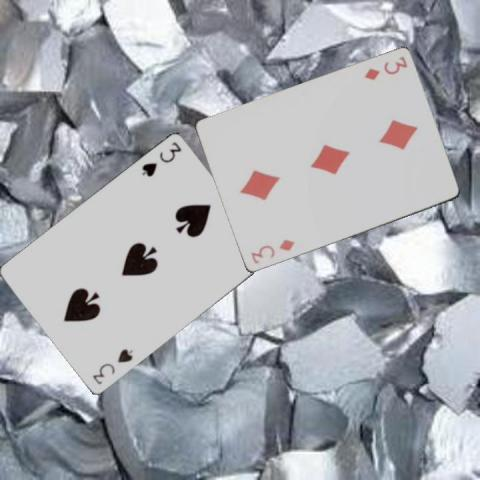3d: (247, 237, 296, 265), (361, 54, 409, 82)
3s: (89, 346, 135, 387), (138, 139, 183, 179)
